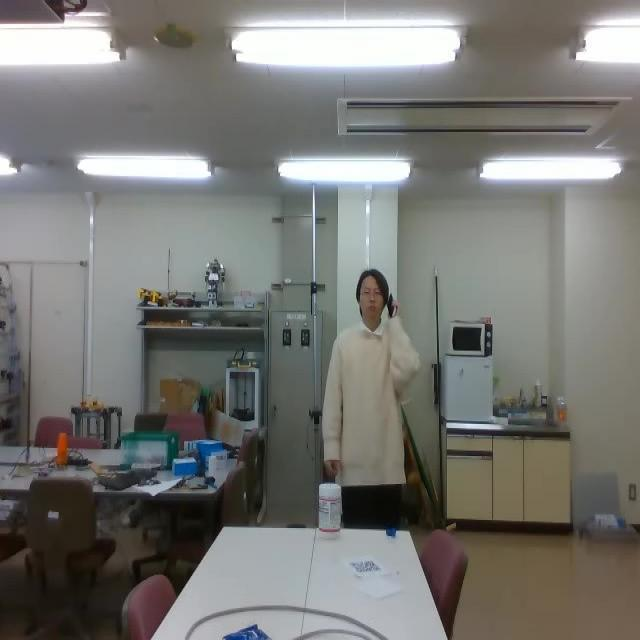Phone: (384, 290, 396, 318)
